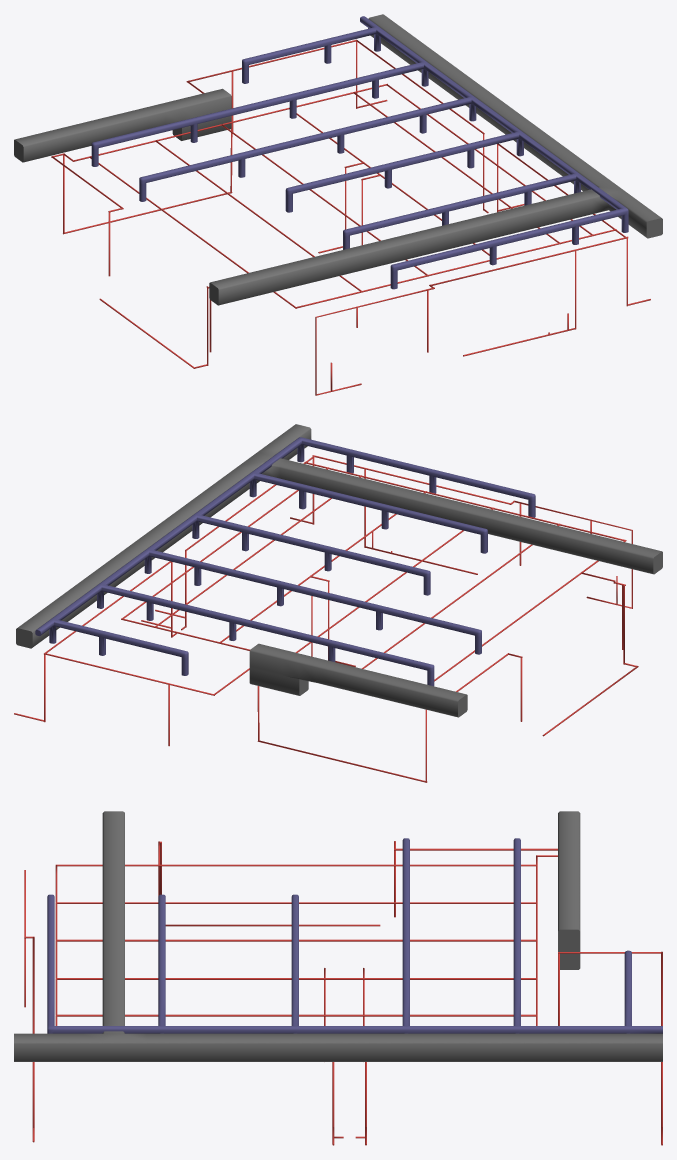
Rendered from bim3.fbx.
3 renders of one model, top to bottom at view 1: azimuth 30°, elevation 25°; view 2: azimuth 150°, elevation 25°; view 3: azimuth 270°, elevation 25°, orthographic. The views are drawn at different scales.
Parts seen in each view (by area): view 1: Wiring; view 2: Wiring; view 3: Wiring.
Part boxes in pixels (left/top/right/bottom): Wiring: left=14, top=14, right=662, bottom=395; Wiring: left=14, top=424, right=662, bottom=782; Wiring: left=14, top=811, right=662, bottom=1145.
Size of the model in its own units: 1.49e+07 by 3520008 by 1.75e+07.
